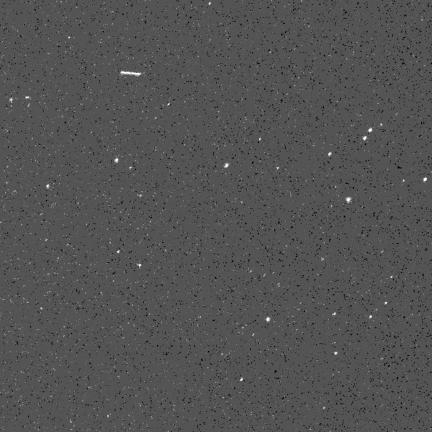blob: (346, 197, 351, 203), (423, 177, 428, 183), (266, 317, 271, 323), (328, 152, 333, 157), (46, 184, 51, 189), (224, 163, 229, 168), (363, 136, 367, 140), (369, 315, 373, 319), (114, 158, 118, 162), (334, 351, 337, 355), (369, 128, 372, 132), (138, 264, 141, 267)
